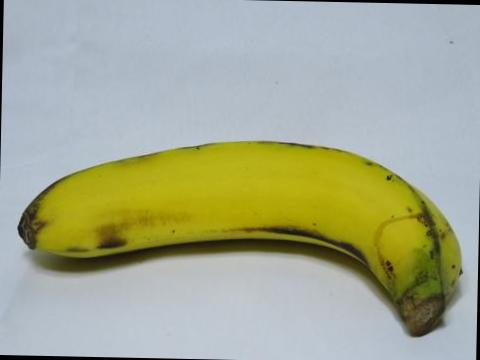freshripe: (15, 126, 468, 341)
